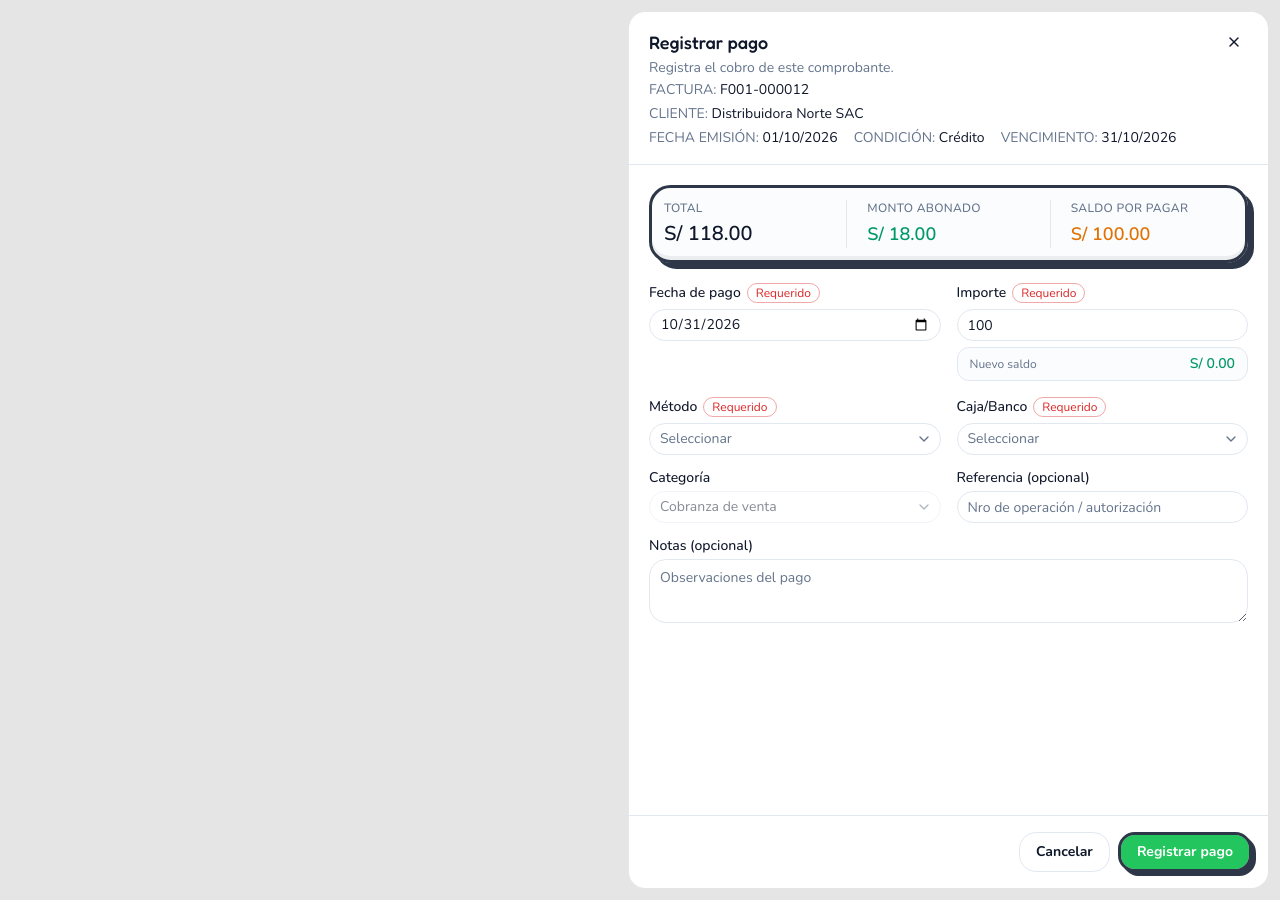
PaymentDrawer › permite volver a Seleccionar en Caja/Banco
Click the dropdown named "Método" at (696, 438), box [649,423,940,455]
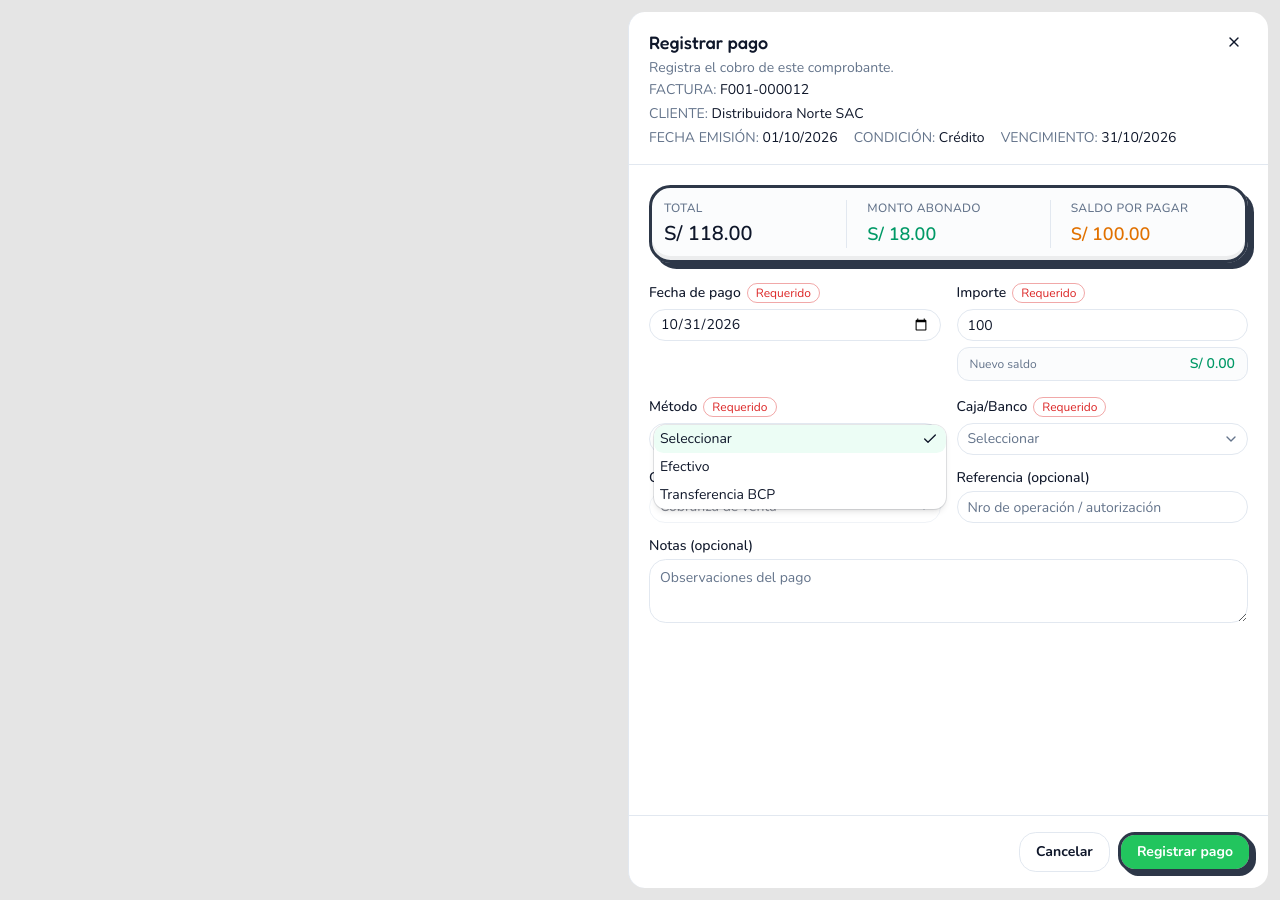
Click the option "Efectivo" at (685, 466), box [660,457,710,476]
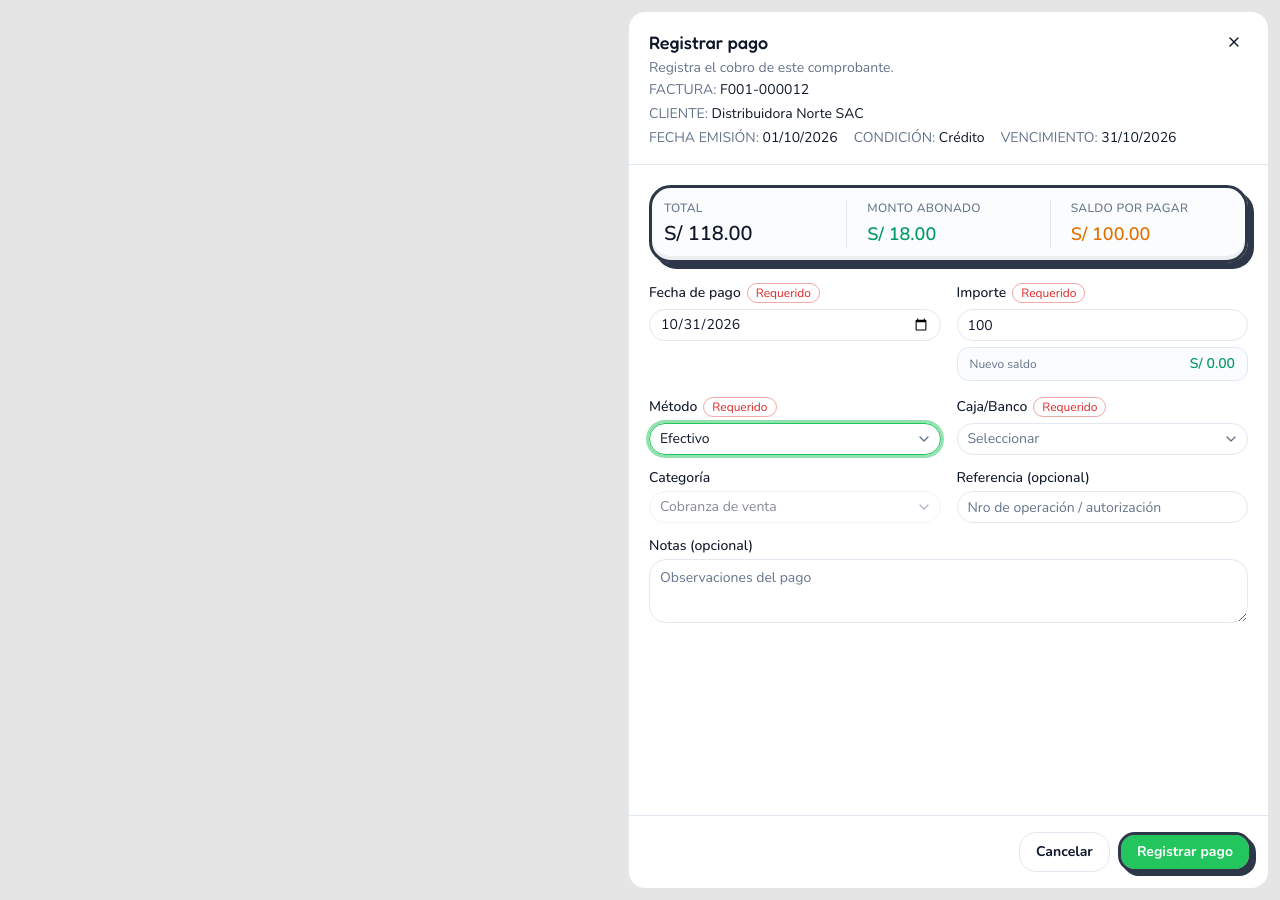
Click the dropdown named "Caja/Banco" at (1003, 438), box [956,423,1248,455]
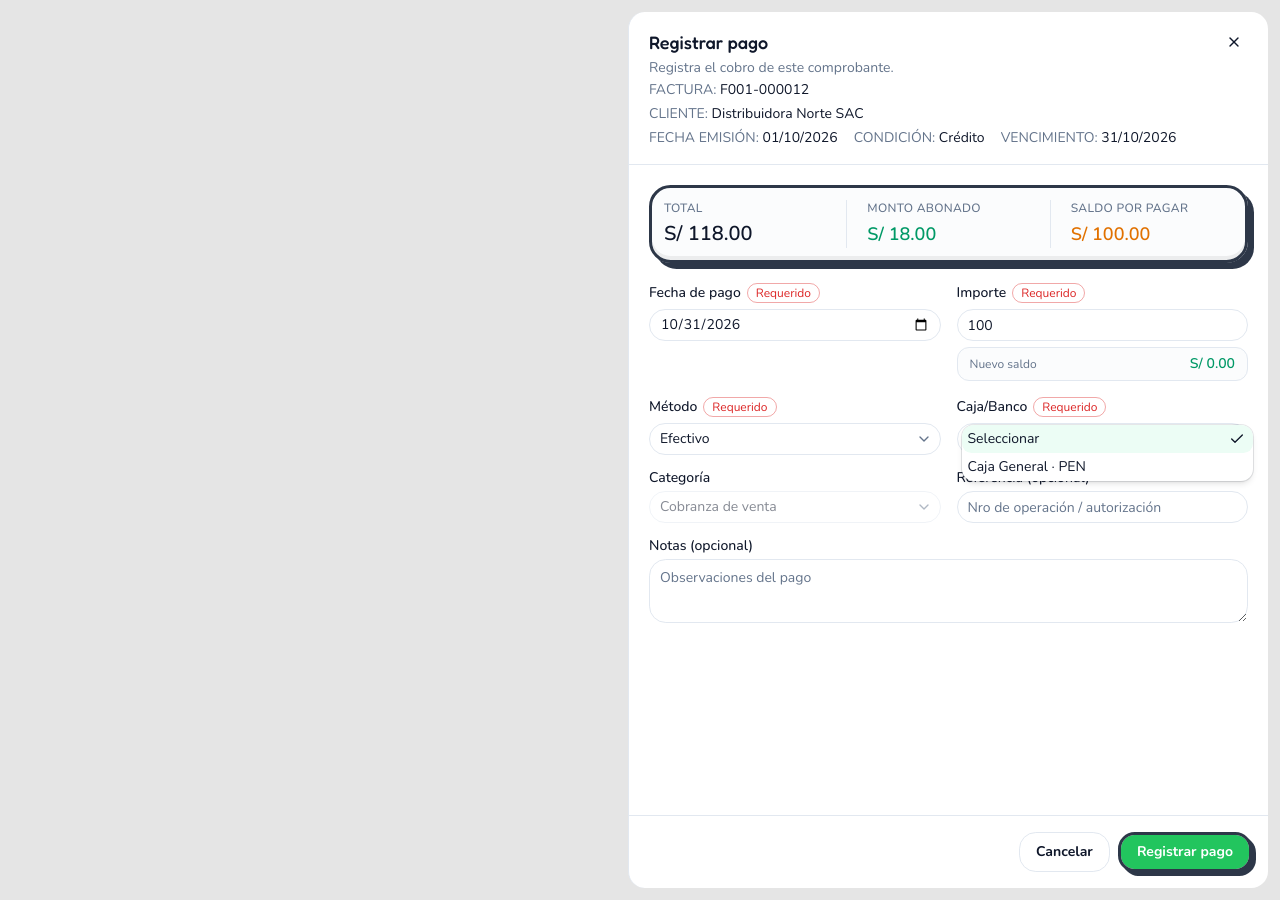
Click the option "Caja General · PEN" at (1027, 466), box [968,457,1086,476]
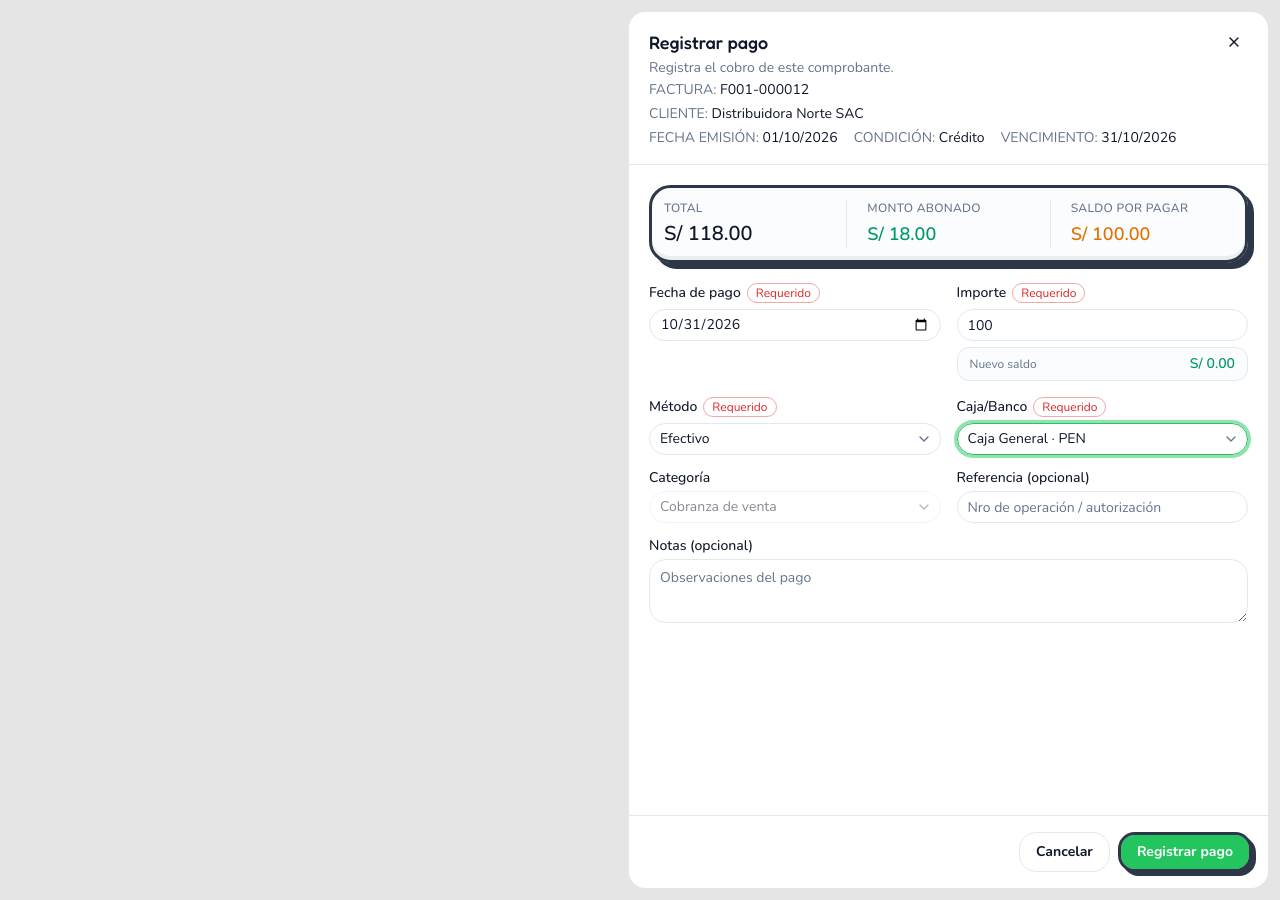
Click the dropdown named "Caja/Banco" at (1027, 438), box [956,423,1248,455]
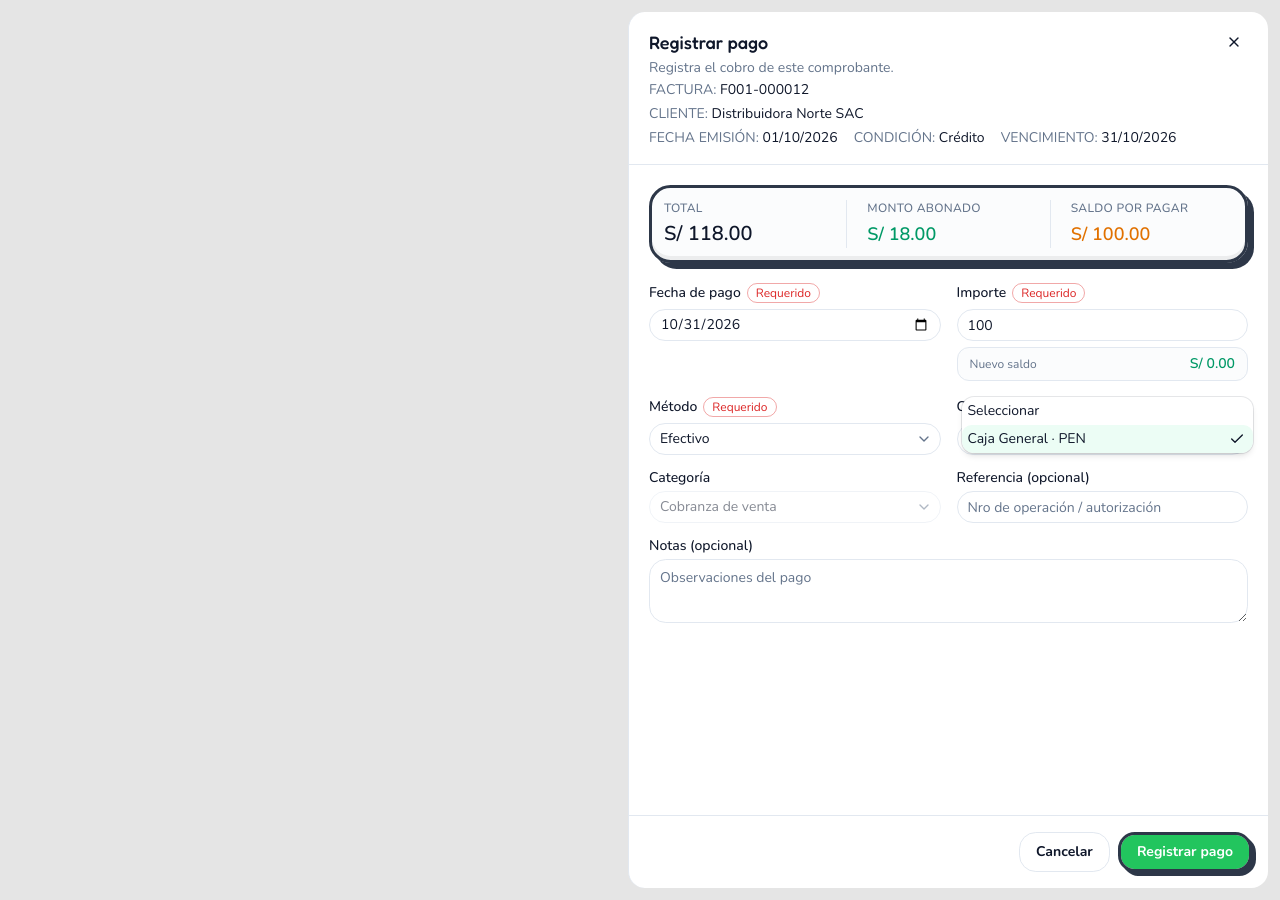
Click the option "Seleccionar" at (1003, 410), box [968,401,1039,420]
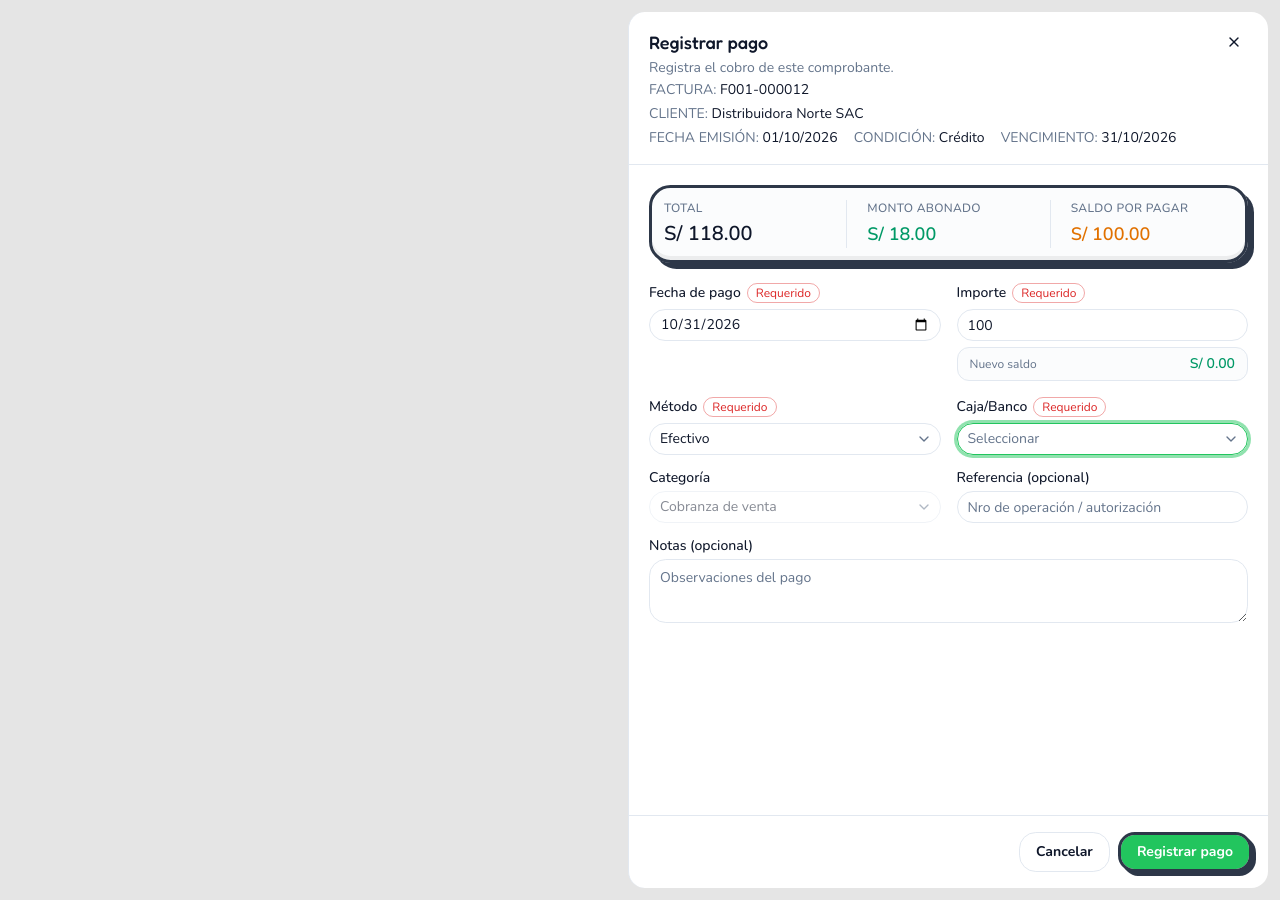
Expected: the dropdown named "Caja/Banco" shows "Seleccionar", [956,423,1248,455]
